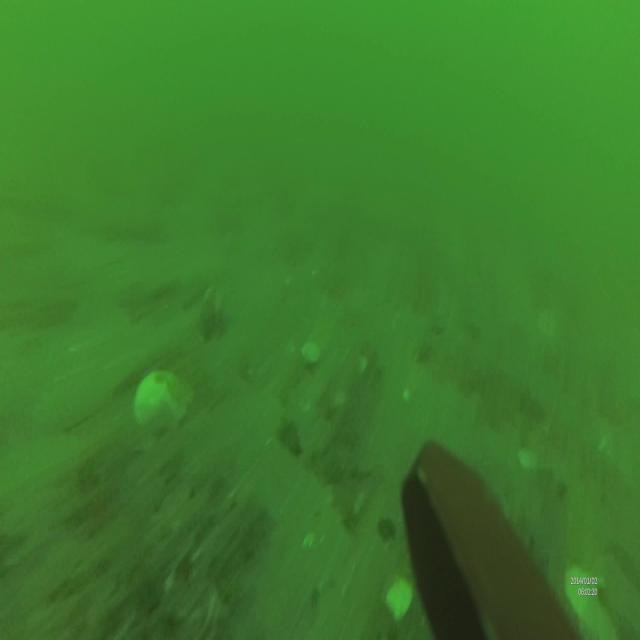echinus: (279, 420, 303, 460), (200, 310, 220, 344), (377, 516, 397, 545)
scallop: (134, 371, 189, 438), (563, 563, 600, 616), (386, 578, 416, 622), (302, 338, 323, 368)
